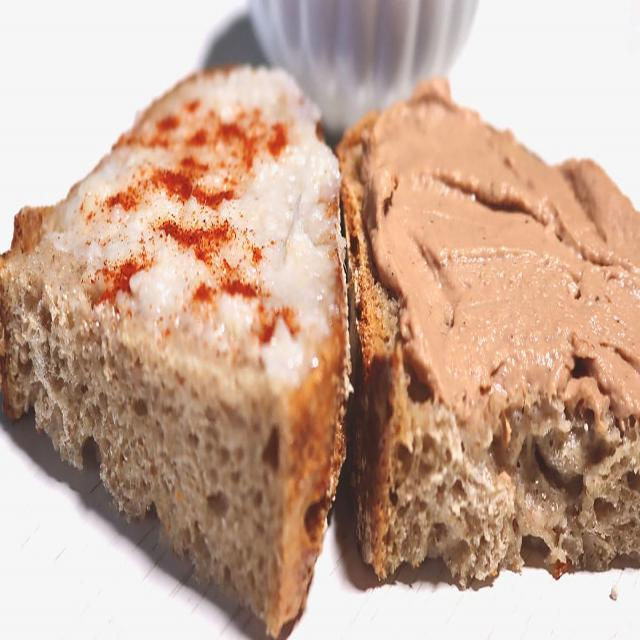Spread: (365, 87, 640, 447)
